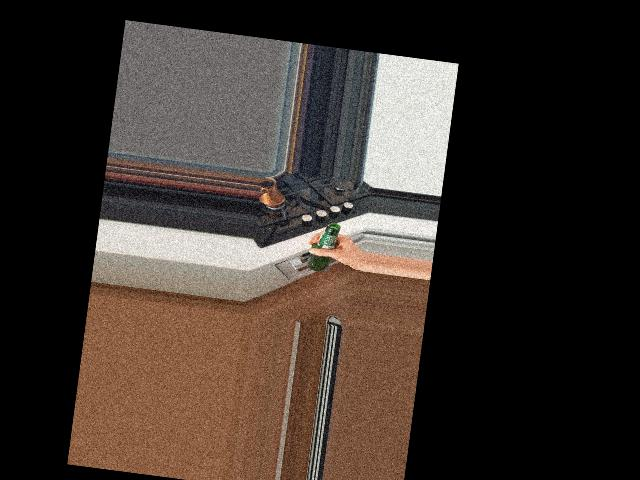beer: (307, 220, 341, 273)
